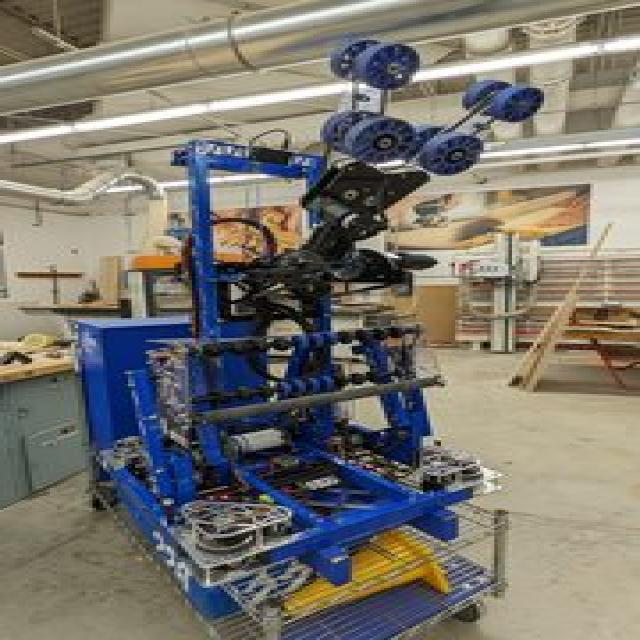robot: (95, 38, 560, 601)
